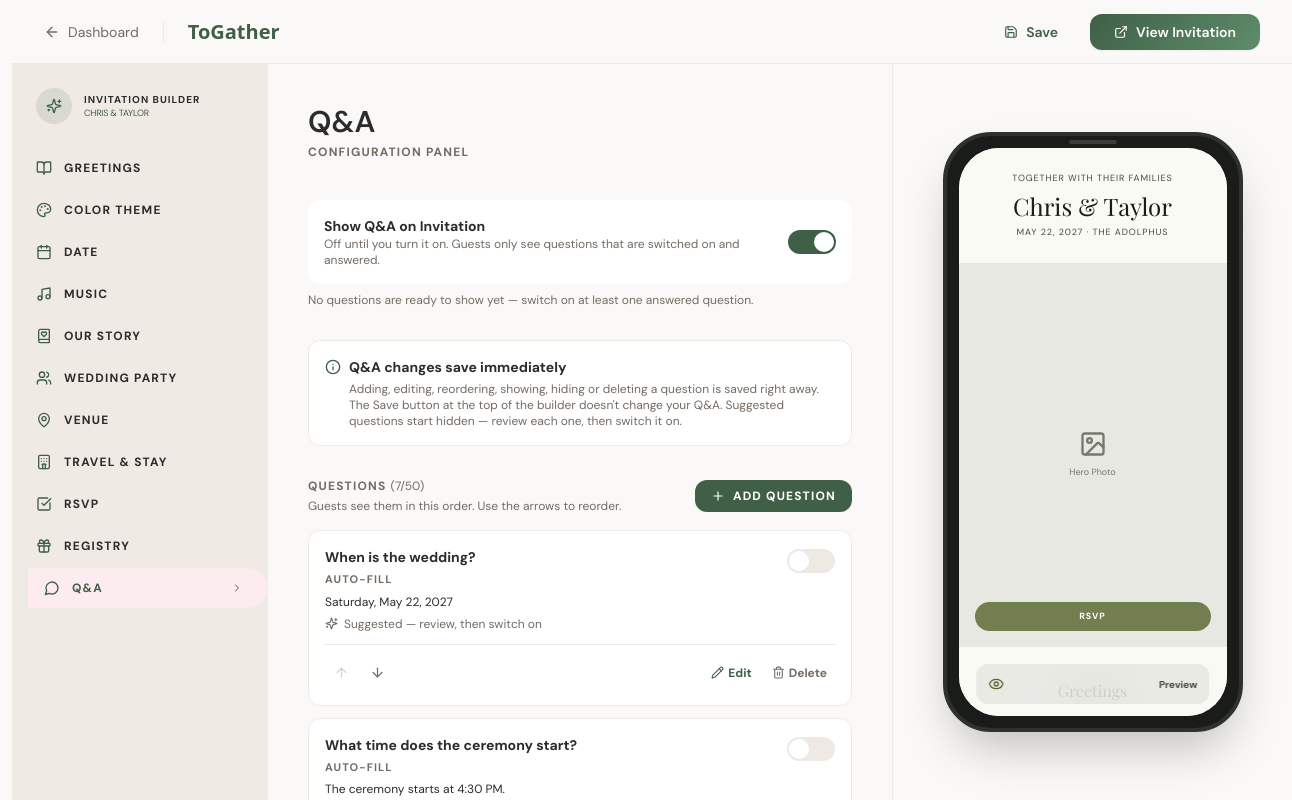
Q&A — visibility › individual switches publish a reviewed starter; hidden ones stay out of the preview
Expected: the element that starts with "Q&A" is shown, [268,64,892,799]
Click the switch named "Show \"When is the wedding?\" to guests" at (811, 561), box [787,549,835,573]
(page scrolled)
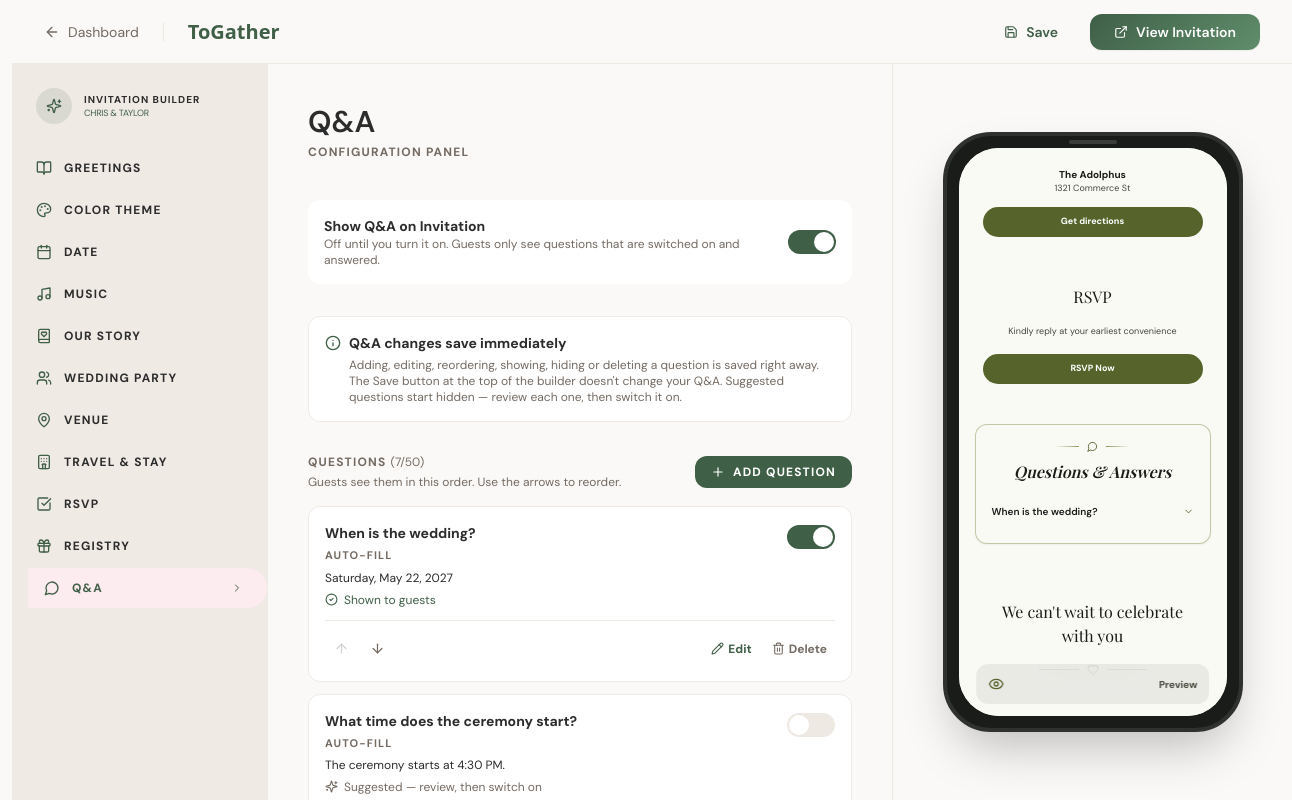
Expected: the element with test id "qa-section" is shown, [974,424,1210,544]
Expected: the number of list items with test id "qa-guest-item" is 1
Click the button "When is the wedding?" at (1092, 511), box [992,496,1194,526]
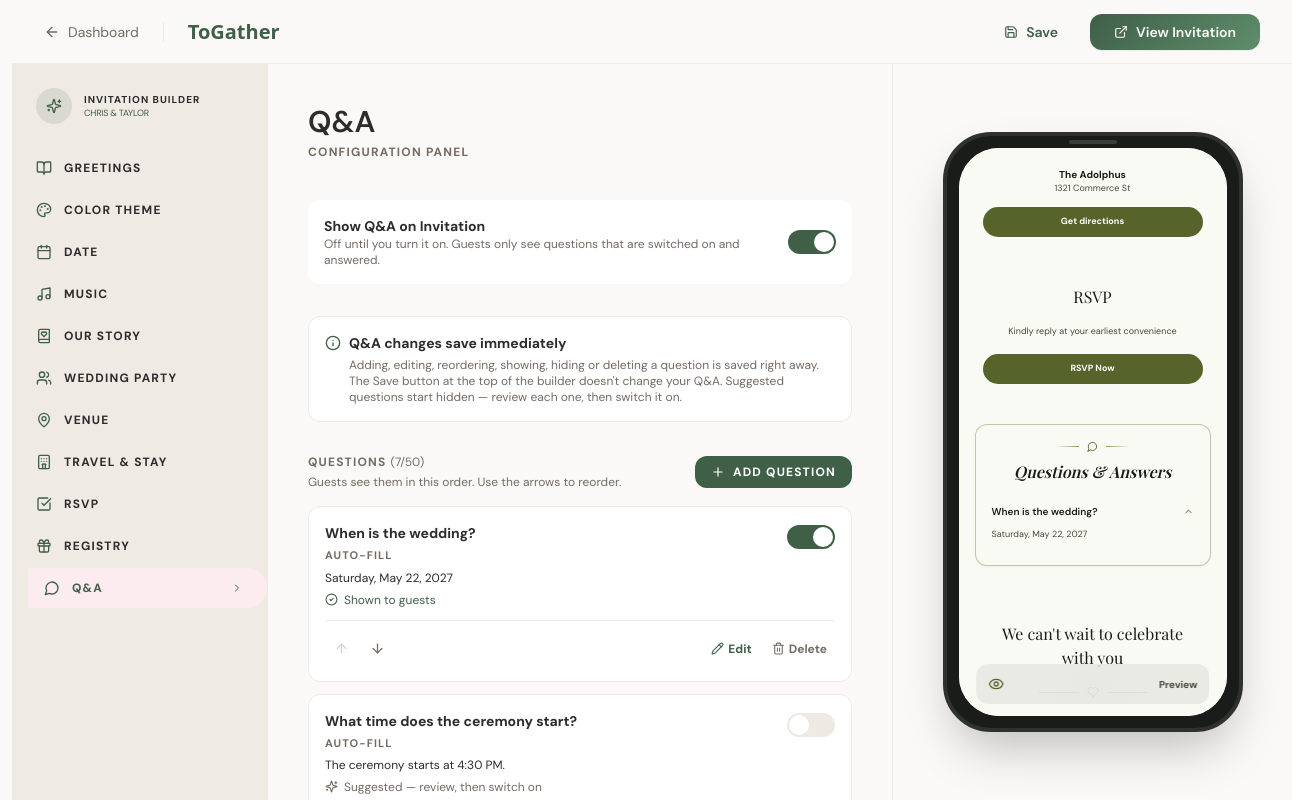
Expected: the text "Saturday, May 22, 2027" below "Questions & Answers" is shown, [992,528,1087,540]
Click the switch named "Show \"When is the wedding?\" to guests" at (811, 537), box [787,525,835,549]
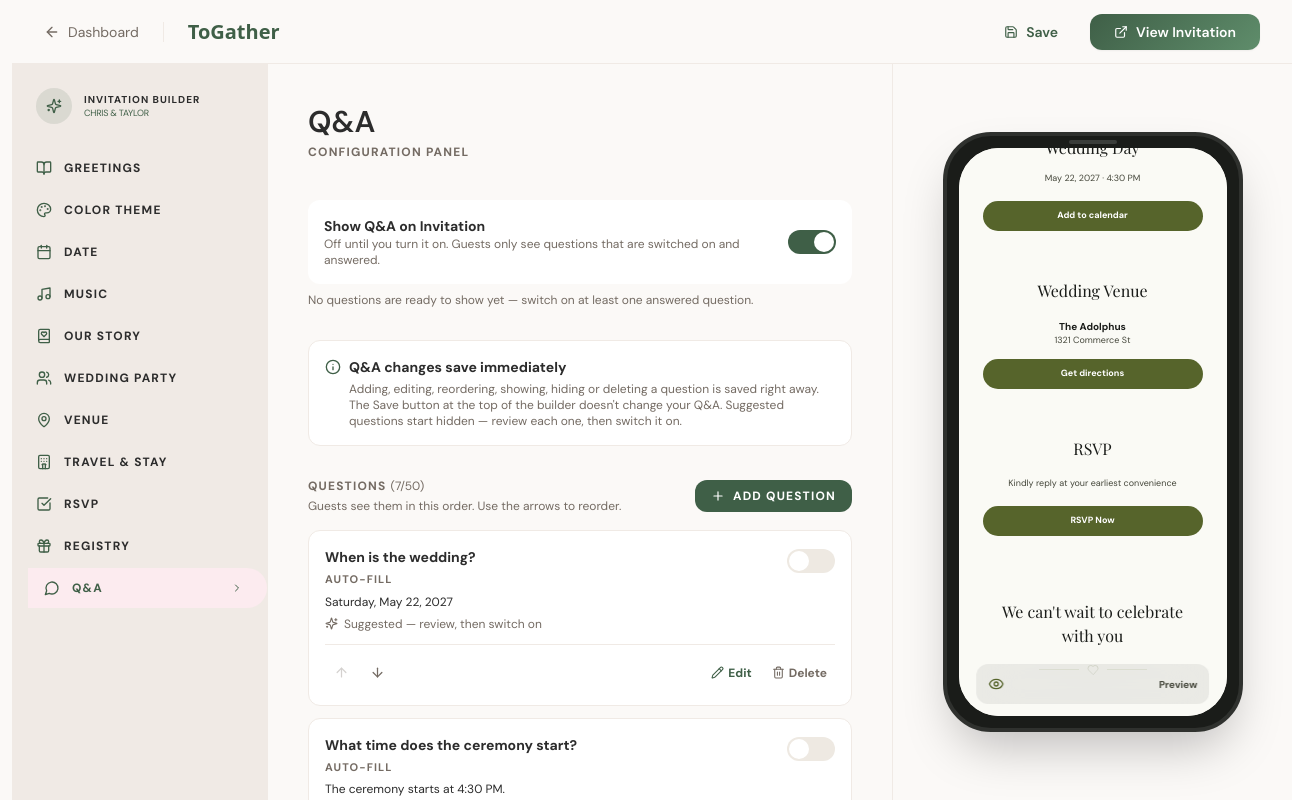
Expected: the element with test id "qa-section" is gone
